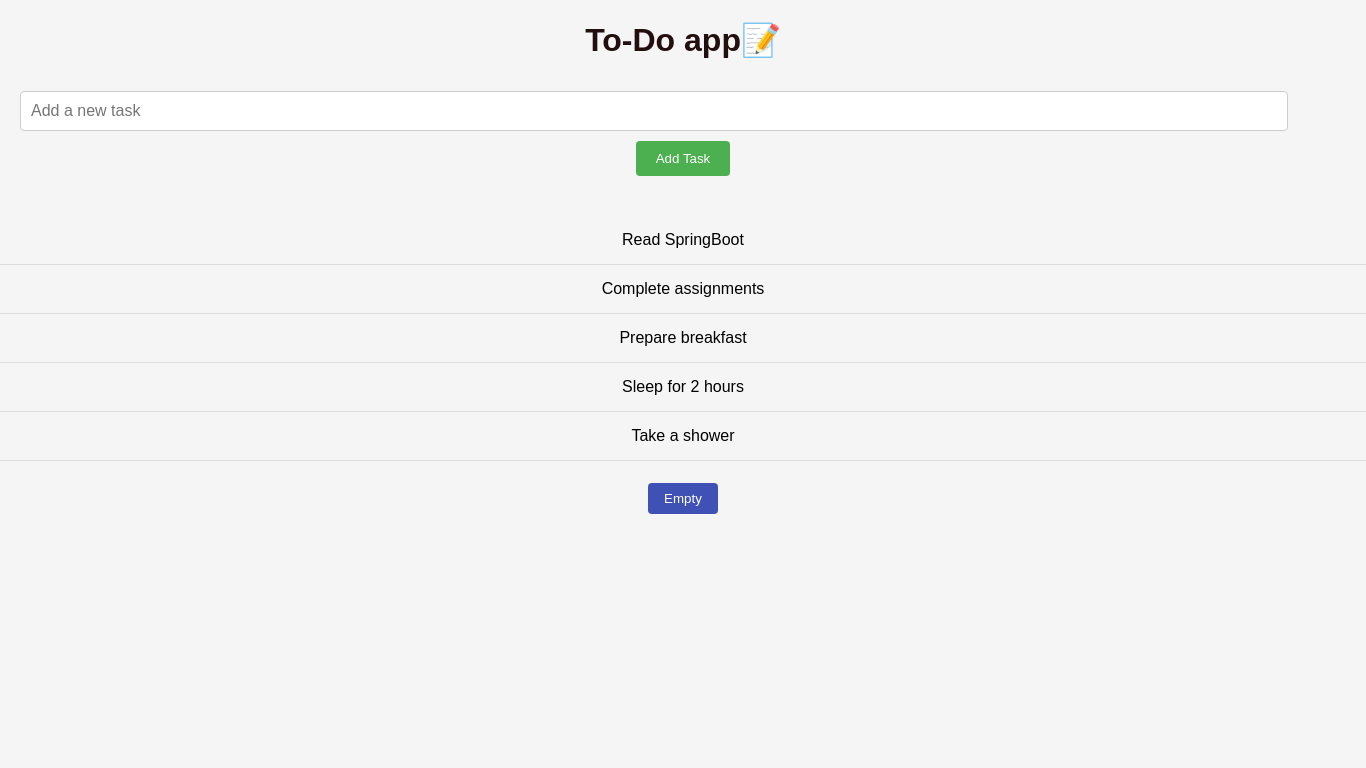
ToDoList Component › empties the todo list
The width and height of the screenshot is (1366, 768).
Type "Complete notes" into the field with test id "todo-input".
click(654, 111); type("Complete notes")  # box [20,91,1288,131]
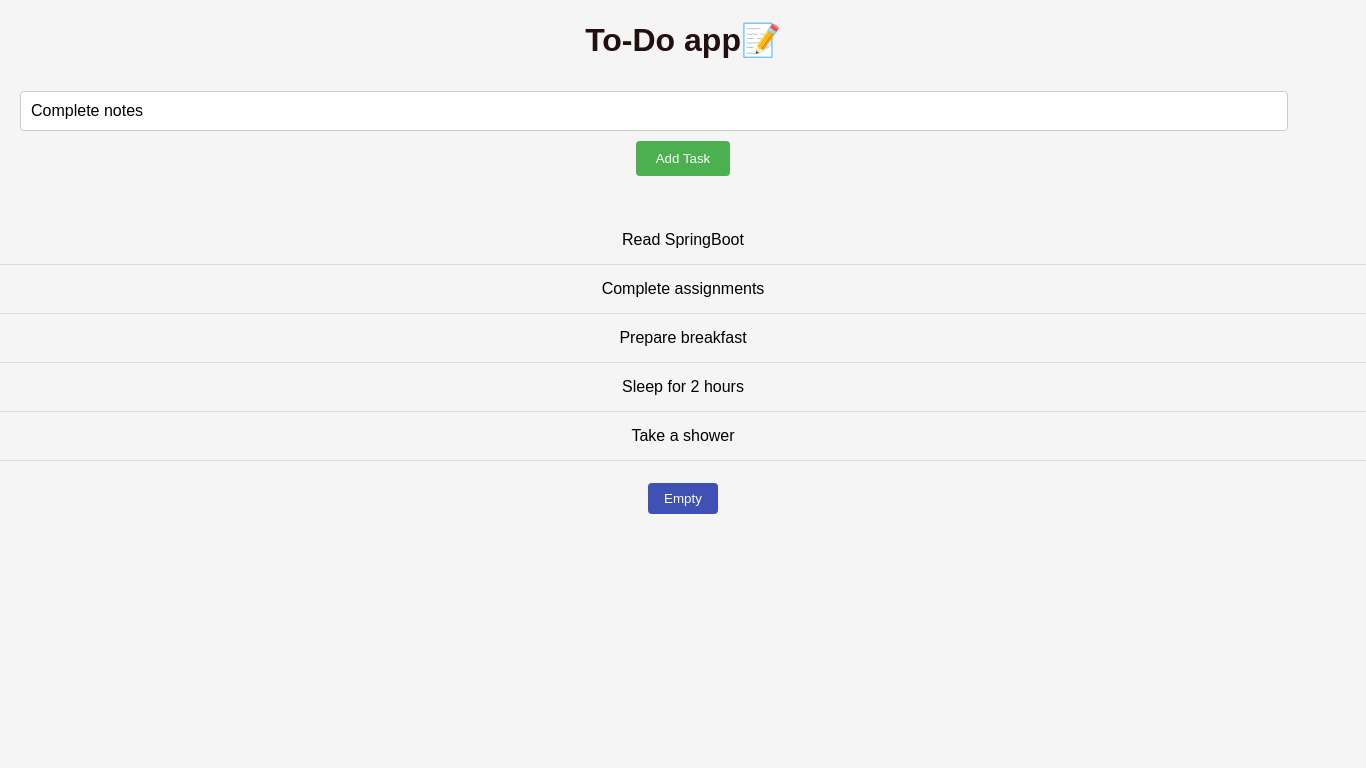
Click the button "Add Task".
click(683, 158)  # box [636,141,730,176]
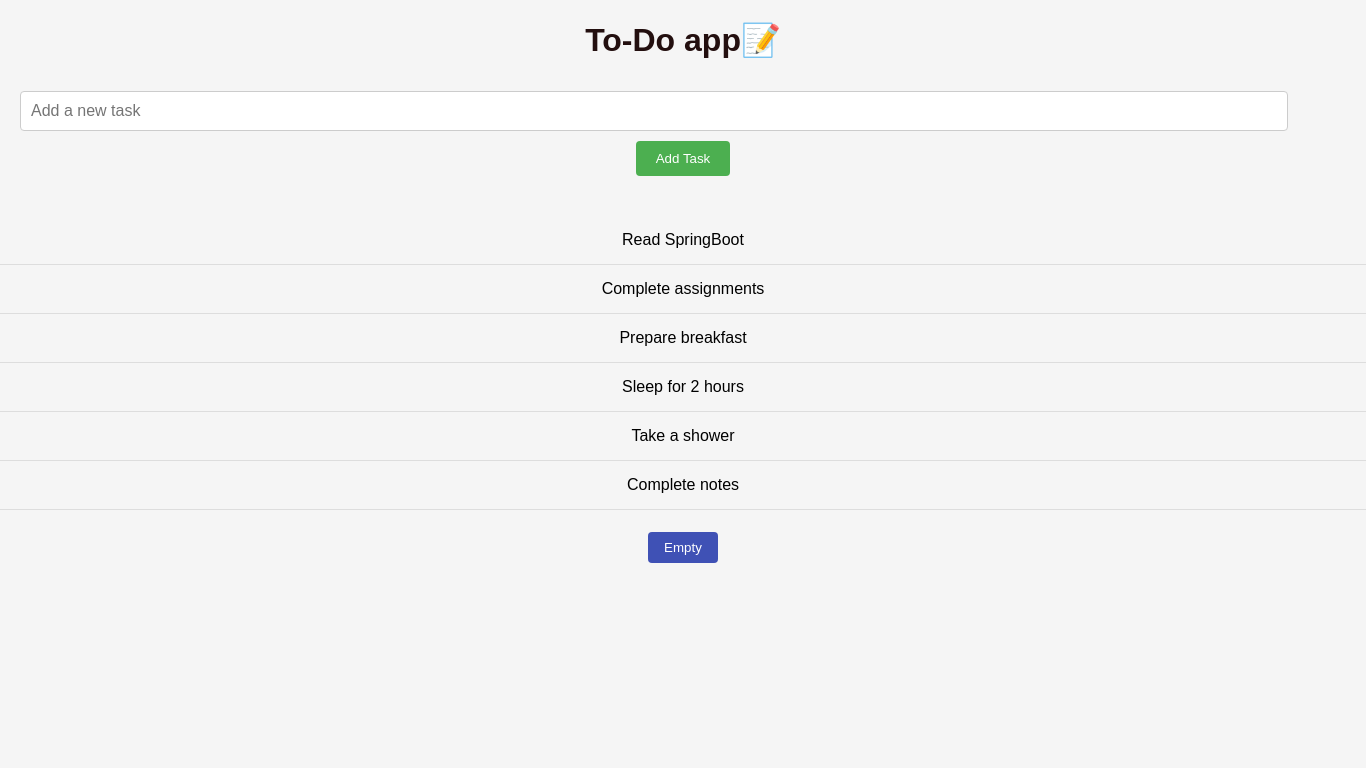
Click the button "Empty".
click(683, 547)  # box [648,532,718,563]
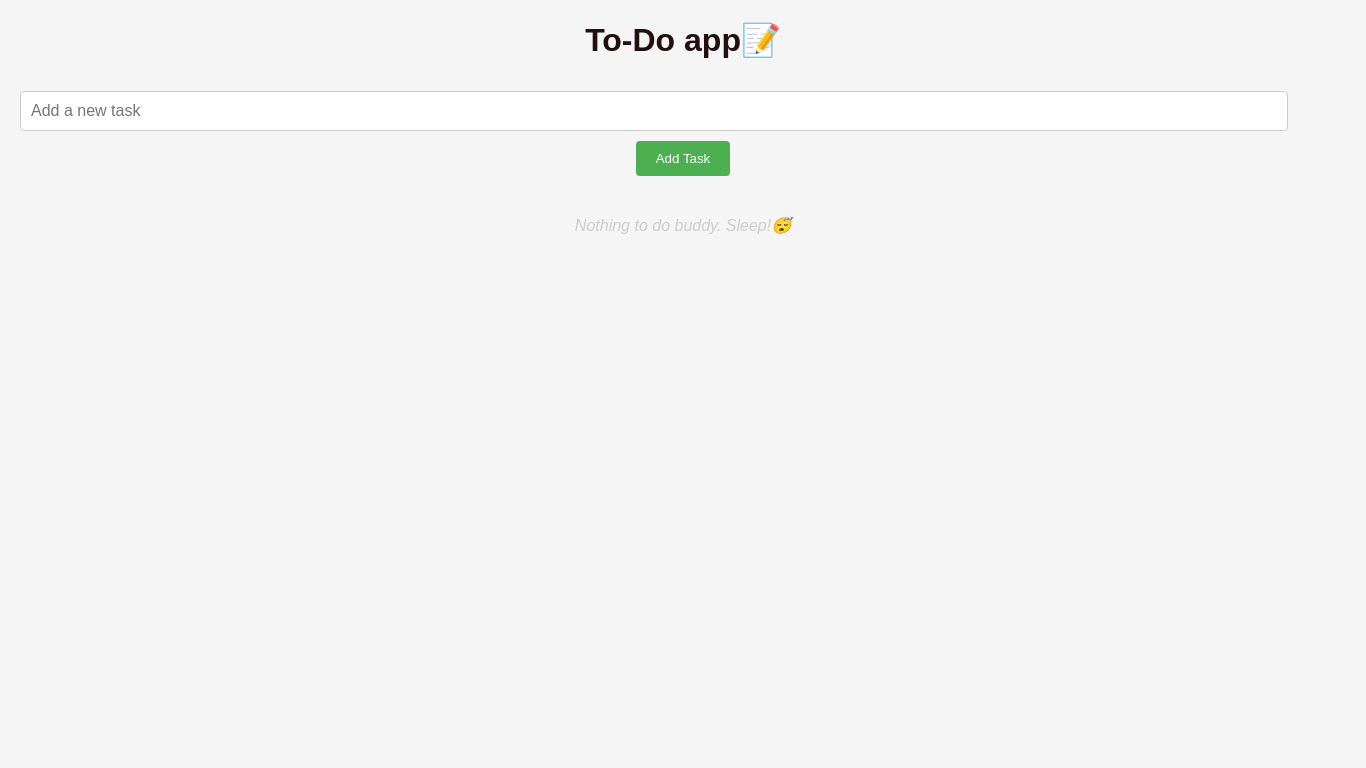
Now the text "Nothing to do buddy. Sleep!😴" is shown, box [575,217,791,234]
